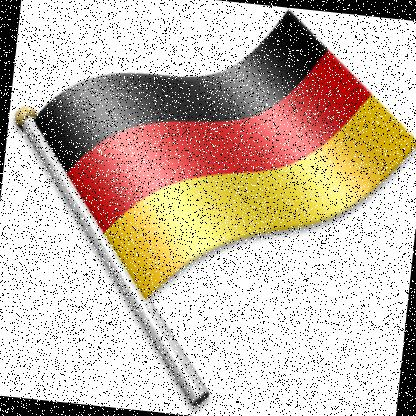de: (9, 1, 416, 336)
